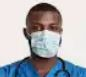with_facemask: (30, 31, 63, 60)
